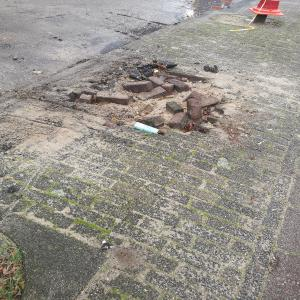Can: (130, 120, 164, 138)
